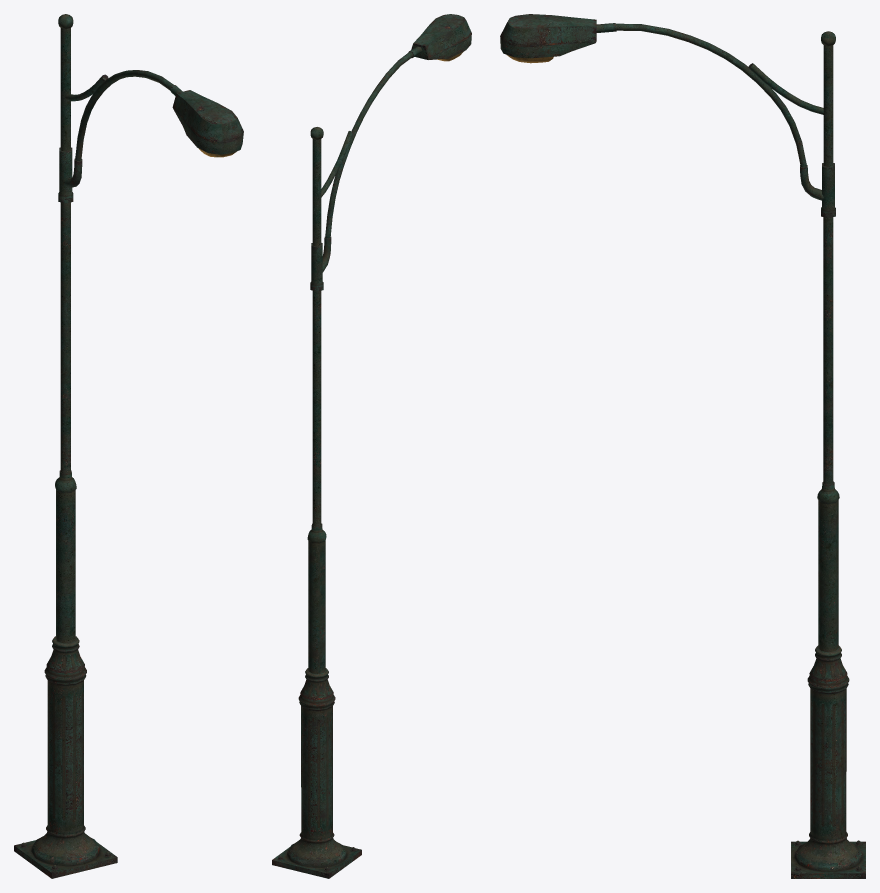
Rendered from sm35_020_streetlightb01a.fbx.
3 views of the same model, side by side, from view 1: azimuth 30°, elevation 25°; view 2: azimuth 150°, elevation 25°; view 3: azimuth 270°, elevation 25° (orthographic). The views are drawn at different scales.
Visible parts, largest first — view 1: LOD_1_Group_0_Sub_1__sm35_020_StreetLightB01A_A_Mat; view 2: LOD_1_Group_0_Sub_1__sm35_020_StreetLightB01A_A_Mat; view 3: LOD_1_Group_0_Sub_1__sm35_020_StreetLightB01A_A_Mat.
Boxes of the visible parts, <box> form: LOD_1_Group_0_Sub_1__sm35_020_StreetLightB01A_A_Mat: <box>14,14,243,878</box>; LOD_1_Group_0_Sub_1__sm35_020_StreetLightB01A_A_Mat: <box>272,14,471,878</box>; LOD_1_Group_0_Sub_1__sm35_020_StreetLightB01A_A_Mat: <box>500,14,865,878</box>.
Size of the model in its own units: 0.4097 by 5.1 by 2.
